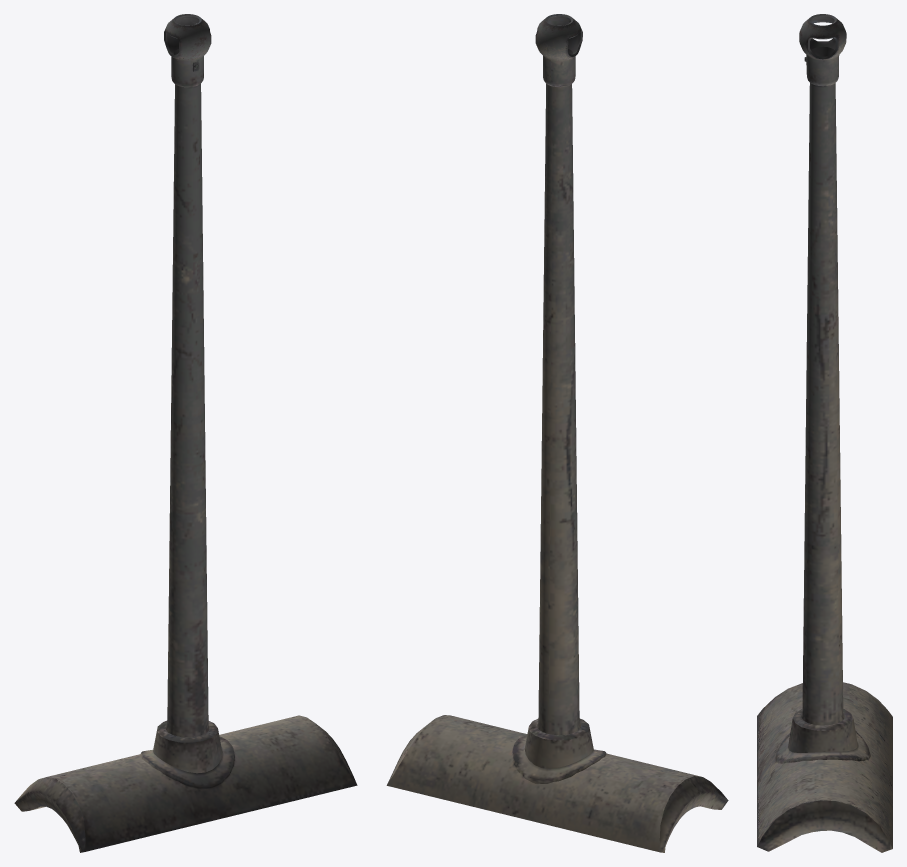
Rendered from Gun_01.glb.
3 renders of one model, left to right at view 1: azimuth 30°, elevation 25°; view 2: azimuth 150°, elevation 25°; view 3: azimuth 270°, elevation 25°, orthographic.
Parts seen in each view (by area): view 1: set_0_group_0; view 2: set_0_group_0; view 3: set_0_group_0.
Part boxes in pixels (x1=…): set_0_group_0: x1=14, y1=14, x2=357, y2=852; set_0_group_0: x1=386, y1=14, x2=728, y2=852; set_0_group_0: x1=757, y1=14, x2=892, y2=852.
Bounding box in the file's own units: 1.54 × 4.18 × 0.6704.
1 material, 1 textured.
